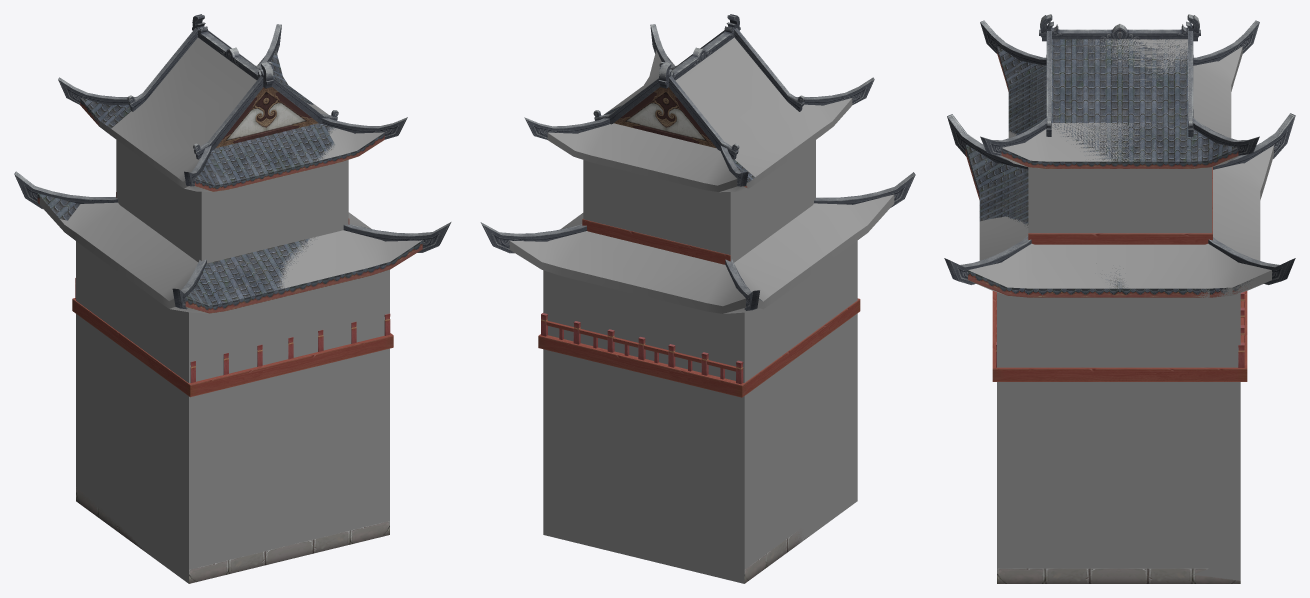
Rendered from Scene_Build_LiangShan_WangTai_1.FBX.
3 views of the same model, side by side, from view 1: azimuth 30°, elevation 25°; view 2: azimuth 150°, elevation 25°; view 3: azimuth 270°, elevation 25° (orthographic). The views are drawn at different scales.
Parts seen in each view (by area): view 1: Scene_Build_LiangShan_WangTai_1_Xzm, Scene_Build_LiangShan_WangTai_1a; view 2: Scene_Build_LiangShan_WangTai_1_Xzm, Scene_Build_LiangShan_WangTai_1a; view 3: Scene_Build_LiangShan_WangTai_1_Xzm, Scene_Build_LiangShan_WangTai_1a.
Boxes of the visible parts, <box> form: Scene_Build_LiangShan_WangTai_1_Xzm: <box>39,37,421,583</box>; Scene_Build_LiangShan_WangTai_1a: <box>14,14,451,583</box>; Scene_Build_LiangShan_WangTai_1_Xzm: <box>509,37,894,583</box>; Scene_Build_LiangShan_WangTai_1a: <box>480,14,915,583</box>; Scene_Build_LiangShan_WangTai_1_Xzm: <box>968,39,1273,580</box>; Scene_Build_LiangShan_WangTai_1a: <box>944,14,1295,583</box>.
Size of the model in its own units: 1353 by 2212 by 1367.
